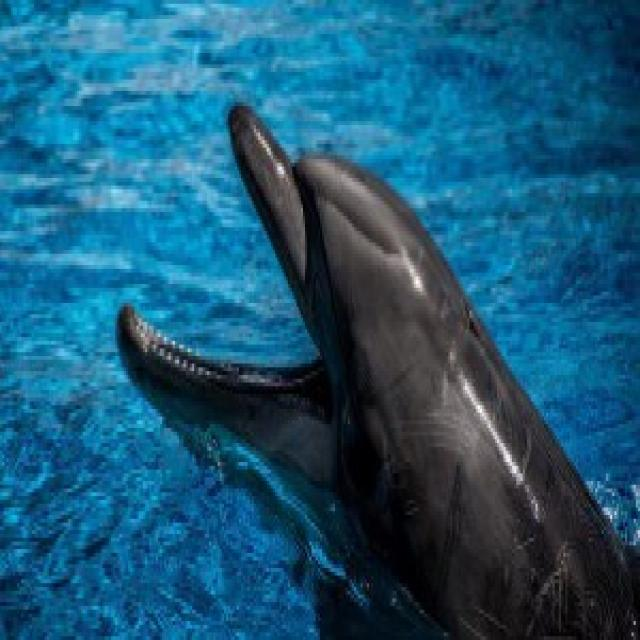Dolphin: (111, 101, 640, 640)
